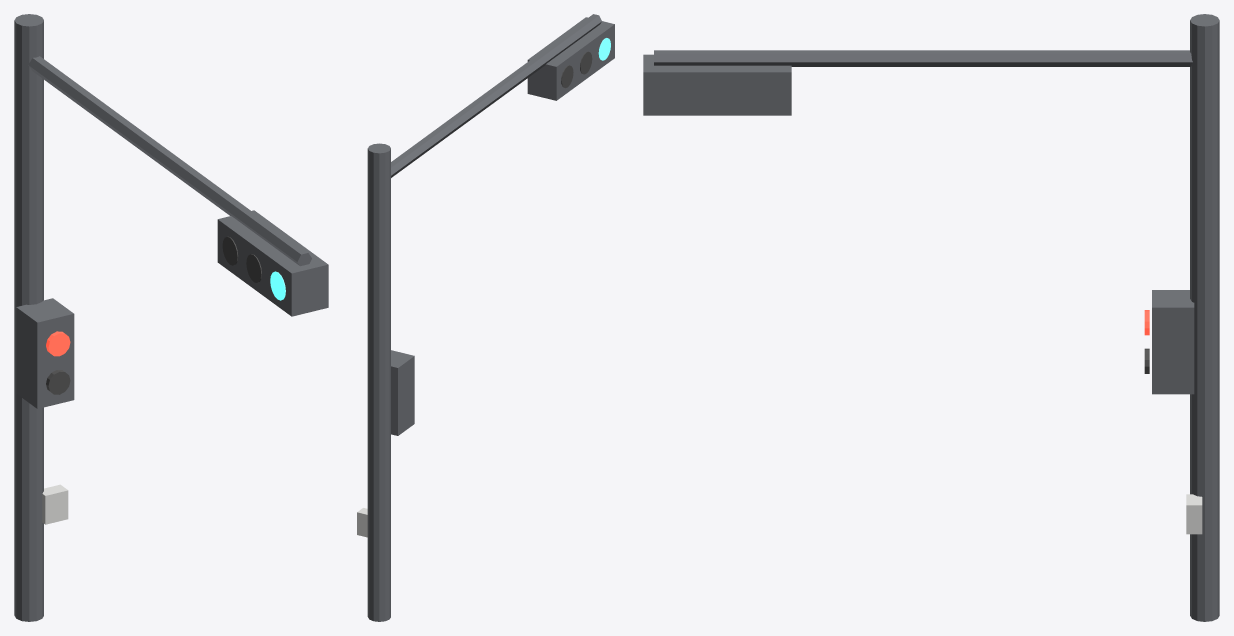
File: traffic_light.glb
The picture shows the model from 3 angles, left to right: view 1: azimuth 30°, elevation 25°; view 2: azimuth 150°, elevation 25°; view 3: azimuth 270°, elevation 25°; orthographic projection. The views are drawn at different scales.
Parts seen in each view (by area): view 1: traffic_light; view 2: traffic_light; view 3: traffic_light.
Part boxes in pixels (<box>): traffic_light: <box>14,14,328,621</box>; traffic_light: <box>357,14,614,621</box>; traffic_light: <box>643,14,1219,621</box>.
Bounding box in the file's own units: 0.535 × 6.2 × 5.44.
